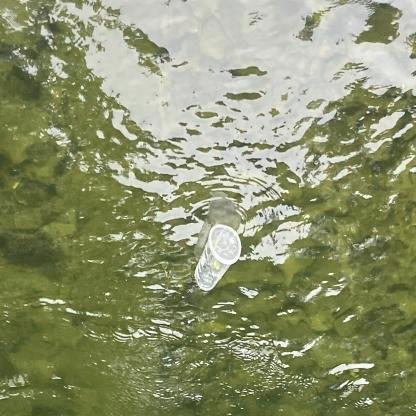Plastic: (191, 219, 244, 296)
